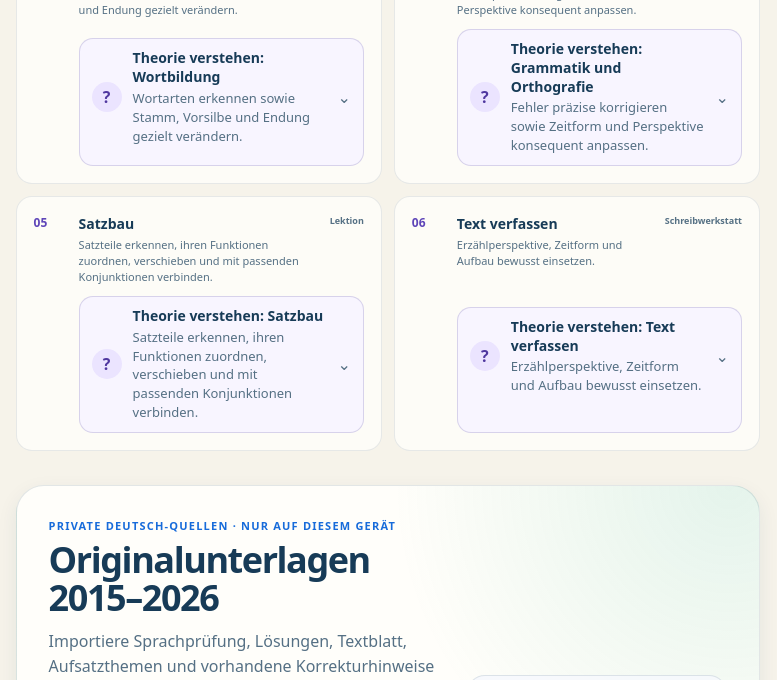
Test: German assessment mistake review › offers a theory explanation for every covered German topic
(page scrolled)
Click the heading that starts with "Theorie verstehen: Text verfassen": (599,356) [458,308,741,405]
(page scrolled)
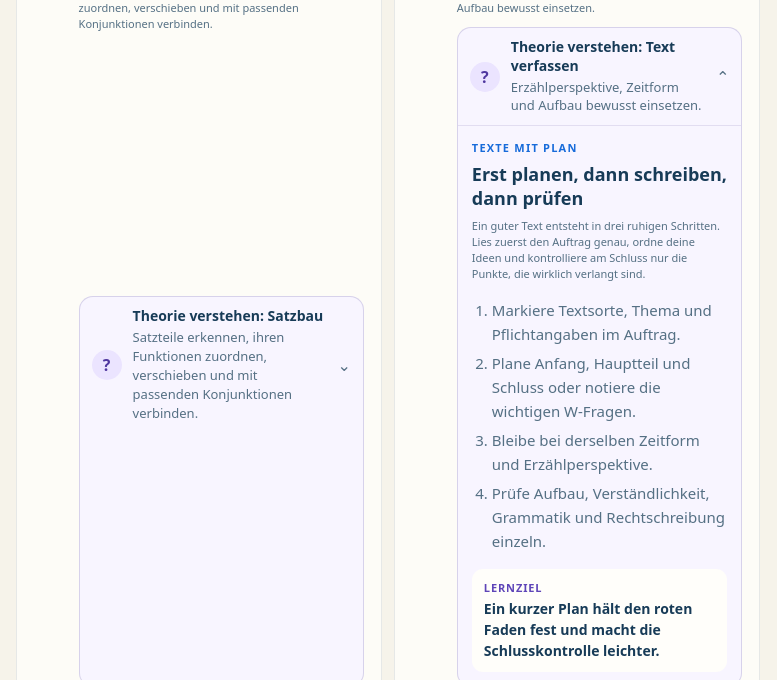
Result: the element that starts with "Theorie verstehen: Text verfassen" shows "Erst planen, dann schreiben, dann prüfen" at [472,162,727,210]
